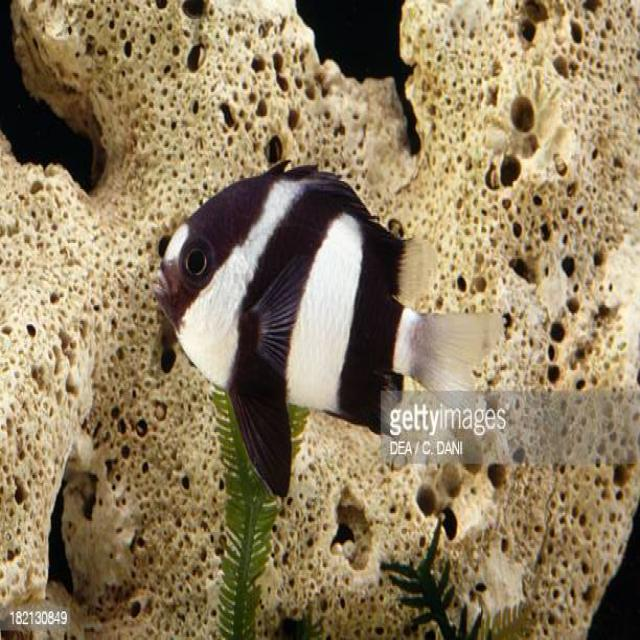ThreeStripedDamselfish: (149, 153, 506, 506)
